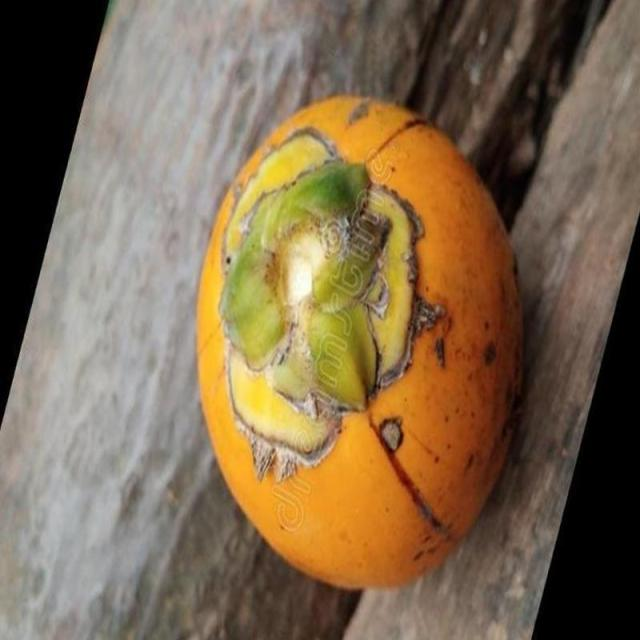good: (198, 96, 524, 593)
